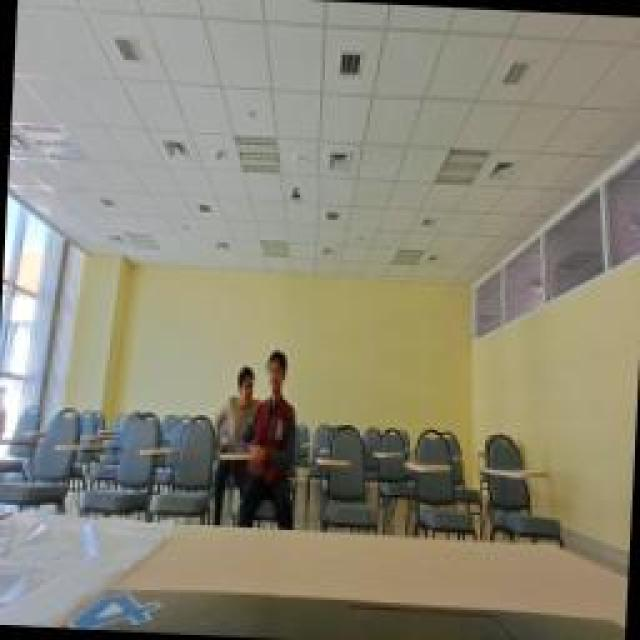study: (238, 343, 300, 455), (213, 363, 265, 445)
